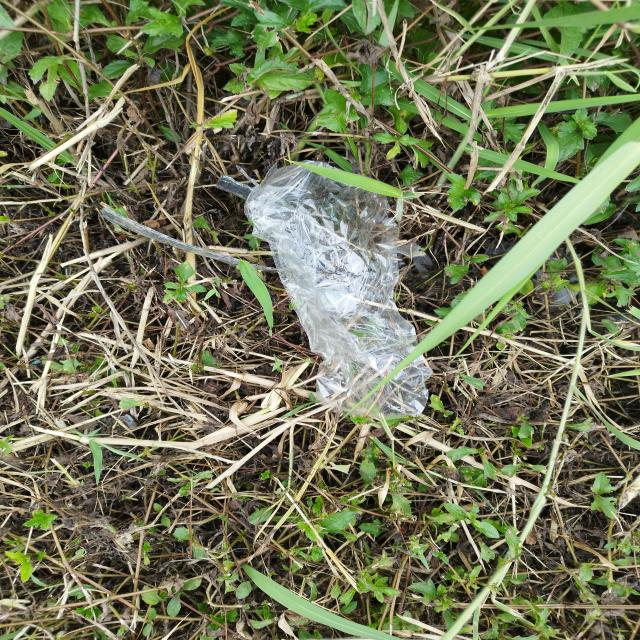bag: (250, 162, 435, 418)
